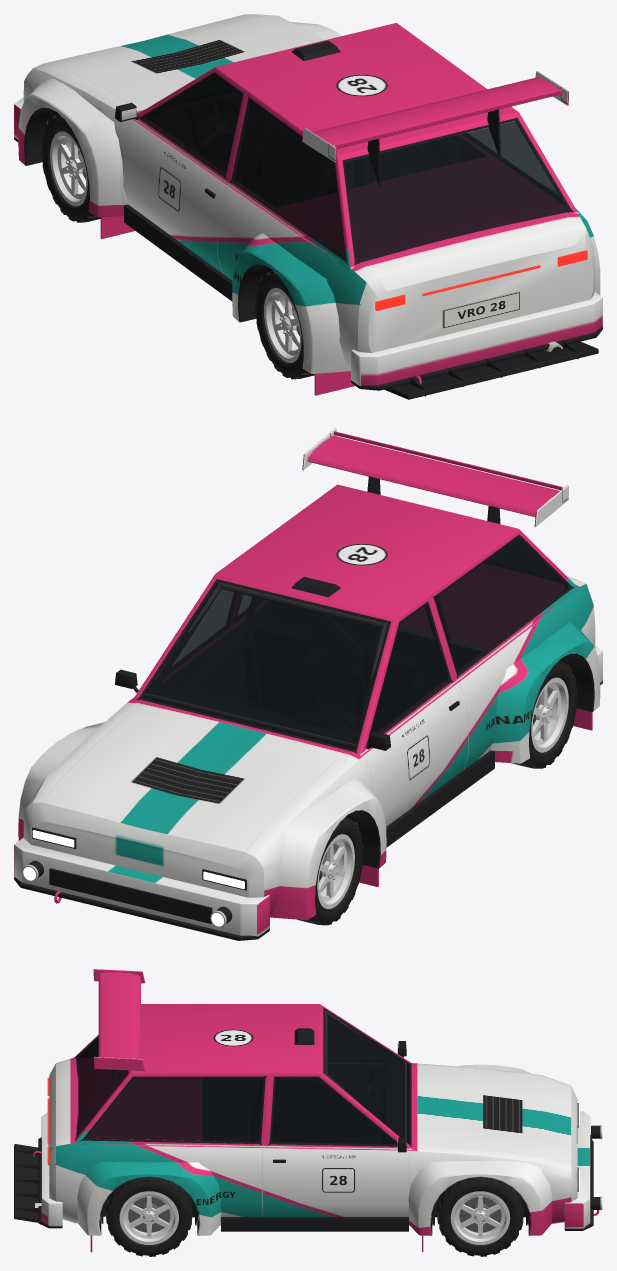
Rendered from CAR-028_Export.fbx.
The picture shows the model from 3 angles, top to bottom: view 1: azimuth 30°, elevation 25°; view 2: azimuth 150°, elevation 25°; view 3: azimuth 270°, elevation 25°; orthographic projection. The views are drawn at different scales.
Parts seen in each view (by area): view 1: CAR-028_Body, CAR-028_Glass, CAR-028_Bumper_Rear, CAR-028_Spoiler, CAR-028_Trim, CAR-028_Accessories, CAR-028_Wheel_FL_Rim, CAR-028_Wheel_RL_Rim, CAR-028_Wheel_FL_Tire, CAR-028_Wheel_RL_Tire, CAR-028_MudFlaps, CAR-028_Lights; view 2: CAR-028_Body, CAR-028_Glass, CAR-028_Spoiler, CAR-028_Bumper_Front, CAR-028_Trim, CAR-028_Interior, CAR-028_Wheel_RL_Rim, CAR-028_Wheel_FL_Rim, CAR-028_Wheel_FL_Tire, CAR-028_Wheel_RL_Tire, CAR-028_Lights, CAR-028_Mirrors (+1 smaller); view 3: CAR-028_Body, CAR-028_Glass, CAR-028_Spoiler, CAR-028_Trim, CAR-028_Wheel_FR_Tire, CAR-028_Wheel_RR_Tire, CAR-028_Wheel_FR_Rim, CAR-028_Wheel_RR_Rim, CAR-028_Bumper_Front, CAR-028_Accessories, CAR-028_Bumper_Rear, CAR-028_Lights (+1 smaller).
Part boxes in pixels (x1,y1,x2,y2): CAR-028_Body: [18, 14, 600, 373]; CAR-028_Glass: [146, 75, 567, 260]; CAR-028_Bumper_Rear: [351, 292, 602, 390]; CAR-028_Spoiler: [302, 71, 568, 186]; CAR-028_Trim: [124, 40, 562, 384]; CAR-028_Accessories: [384, 340, 598, 399]; CAR-028_Wheel_FL_Rim: [50, 131, 87, 206]; CAR-028_Wheel_RL_Rim: [264, 288, 301, 362]; CAR-028_Wheel_FL_Tire: [41, 114, 100, 222]; CAR-028_Wheel_RL_Tire: [255, 271, 314, 379]; CAR-028_MudFlaps: [100, 216, 354, 395]; CAR-028_Lights: [375, 250, 587, 310]; CAR-028_Body: [18, 484, 600, 920]; CAR-028_Glass: [143, 538, 567, 749]; CAR-028_Spoiler: [302, 428, 568, 527]; CAR-028_Bumper_Front: [14, 837, 269, 940]; CAR-028_Trim: [49, 576, 494, 923]; CAR-028_Interior: [136, 582, 387, 746]; CAR-028_Wheel_RL_Rim: [531, 677, 568, 752]; CAR-028_Wheel_FL_Rim: [317, 834, 354, 908]; CAR-028_Wheel_FL_Tire: [297, 817, 363, 925]; CAR-028_Wheel_RL_Tire: [511, 660, 577, 768]; CAR-028_Lights: [22, 827, 246, 927]; CAR-028_Mirrors: [115, 669, 390, 750]; CAR-028_Body: [49, 1004, 577, 1235]; CAR-028_Glass: [78, 1015, 409, 1144]; CAR-028_Spoiler: [93, 969, 145, 1082]; CAR-028_Trim: [32, 1028, 599, 1231]; CAR-028_Wheel_FR_Tire: [437, 1177, 523, 1256]; CAR-028_Wheel_RR_Tire: [106, 1177, 192, 1256]; CAR-028_Wheel_FR_Rim: [450, 1191, 510, 1244]; CAR-028_Wheel_RR_Rim: [119, 1191, 178, 1244]; CAR-028_Bumper_Front: [564, 1111, 593, 1230]; CAR-028_Accessories: [14, 1144, 41, 1222]; CAR-028_Bumper_Rear: [38, 1112, 62, 1228]; CAR-028_Lights: [47, 1078, 602, 1210].
Bounding box in the file's own units: 1.98 × 1.63 × 4.48.
16 materials, 2 textured.
